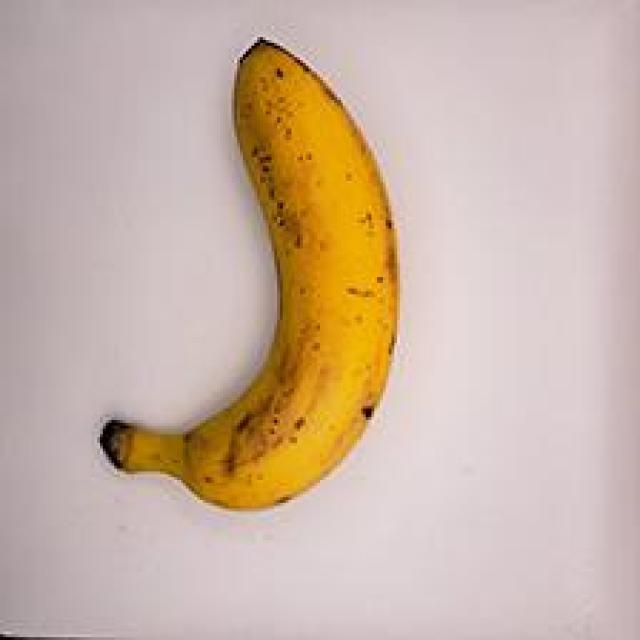Overripe: (56, 26, 420, 541)
